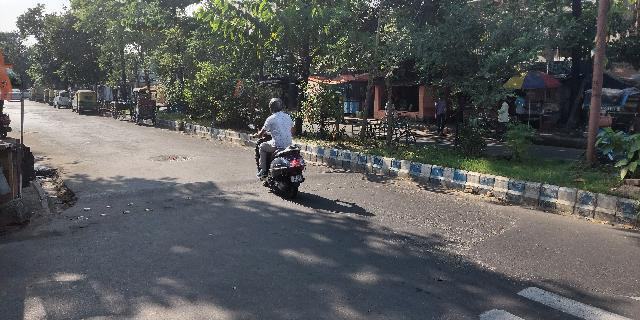Autorickshaw: (73, 87, 99, 119)
Motorbike: (250, 93, 308, 201)
Rickshaw: (130, 86, 161, 129)
